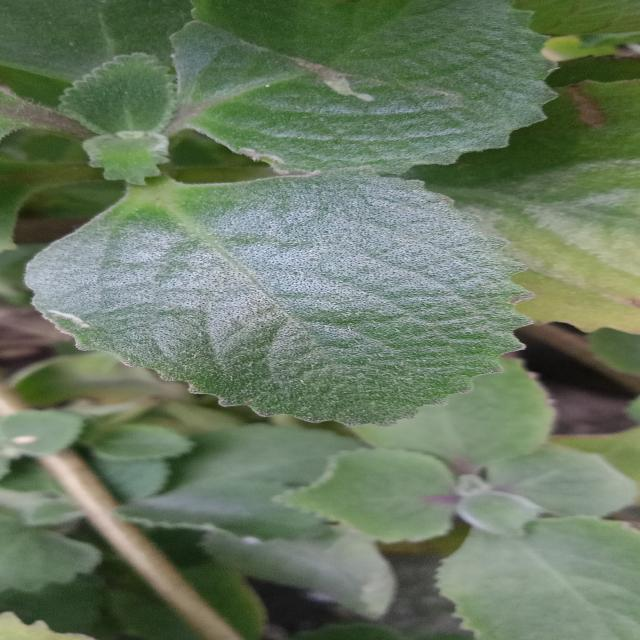Oregano: (32, 140, 595, 452)
